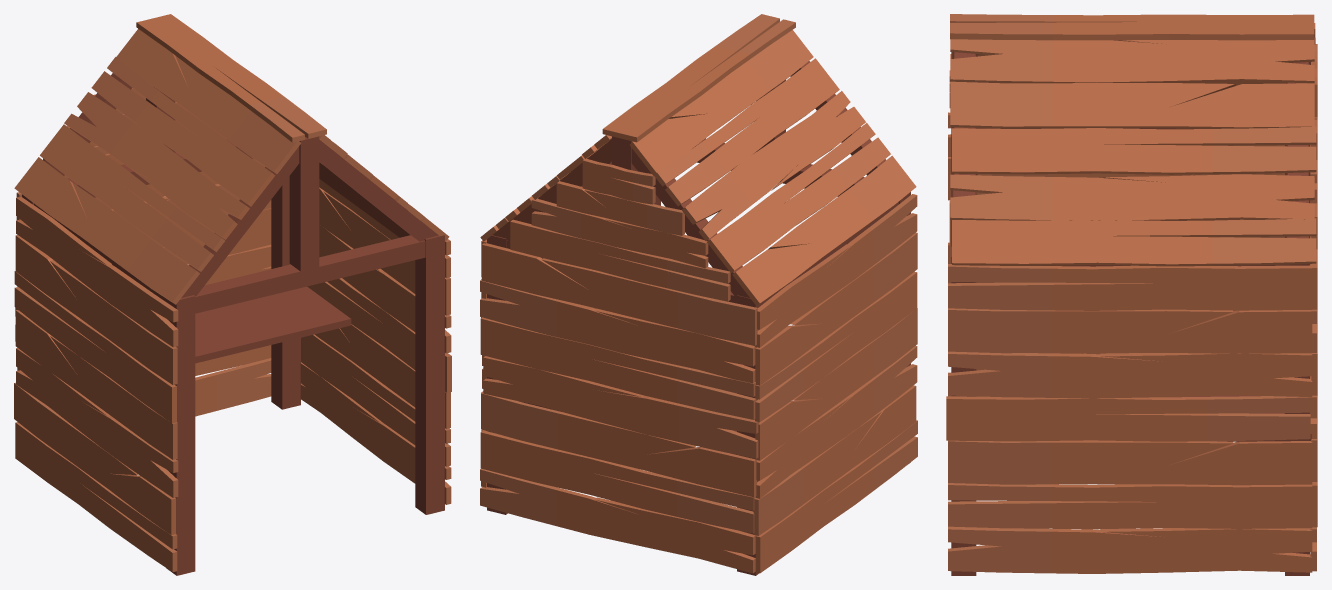
The model's file is Schuurtje.fbx.
The picture shows the model from 3 angles, left to right: view 1: azimuth 30°, elevation 25°; view 2: azimuth 150°, elevation 25°; view 3: azimuth 270°, elevation 25°; orthographic projection. The views are drawn at different scales.
Visible parts, largest first — view 1: Cube.016; view 2: Cube.016; view 3: Cube.016.
Part boxes in pixels (<box>): Cube.016: <box>14,14,451,575</box>; Cube.016: <box>480,14,917,575</box>; Cube.016: <box>946,14,1317,575</box>.
Size of the model in its own units: 2.25 by 3.15 by 2.23.
